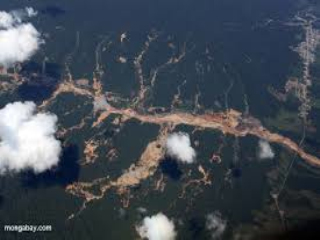smoke: (3, 103, 61, 178), (1, 21, 46, 71), (133, 206, 184, 239), (159, 127, 201, 163)
